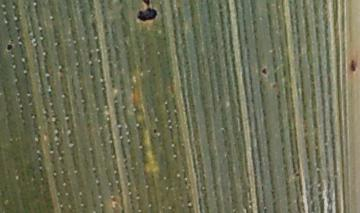tarspot: (137, 6, 158, 22), (348, 58, 357, 73), (142, 1, 152, 8), (6, 43, 13, 52), (271, 82, 278, 90), (261, 67, 267, 75), (152, 128, 157, 134)
